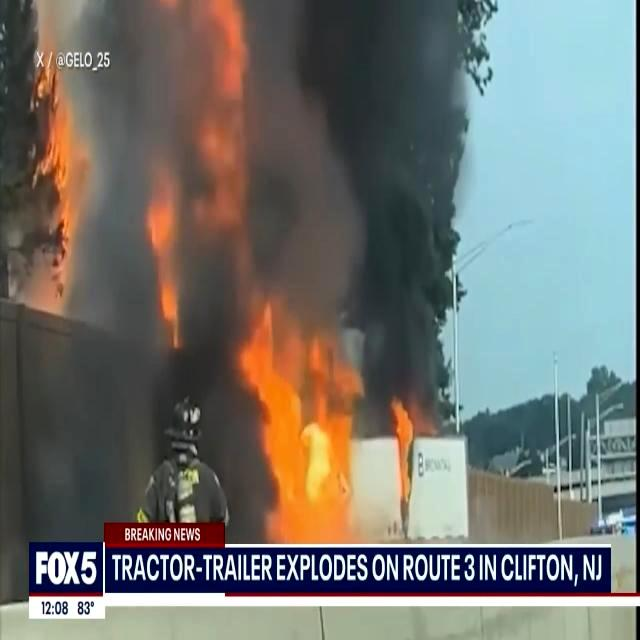fire: (256, 344, 348, 546), (193, 3, 251, 200), (127, 188, 196, 352), (30, 70, 78, 274)
